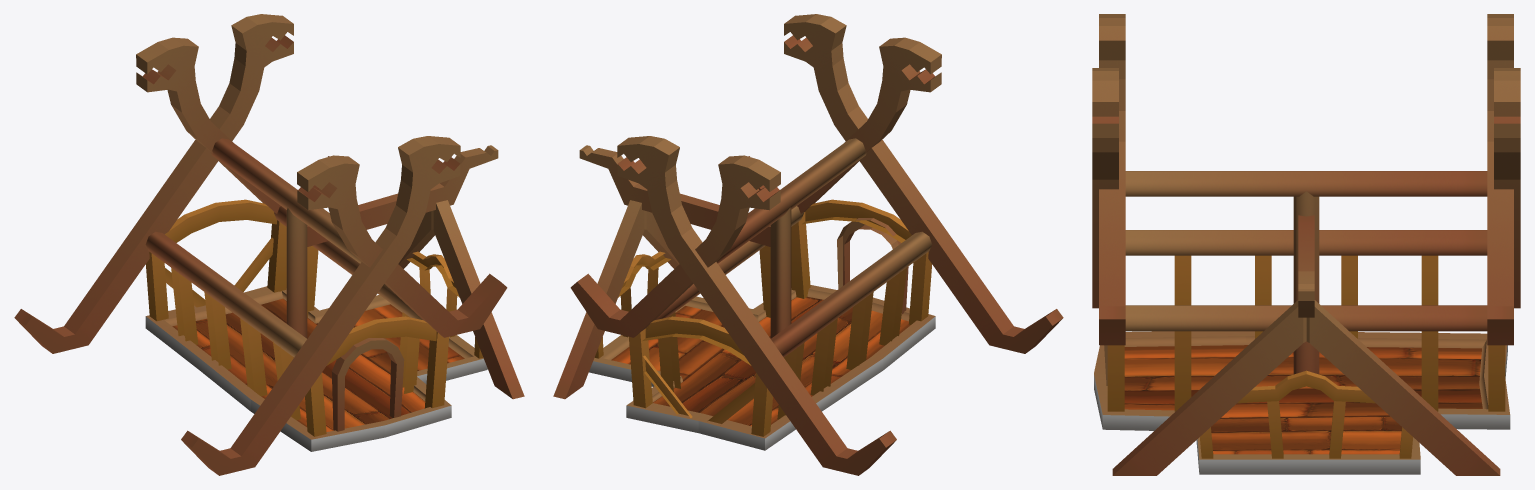
The model's file is VikingHouse_03_XL.fbx.
The picture shows the model from 3 angles, left to right: view 1: azimuth 30°, elevation 25°; view 2: azimuth 150°, elevation 25°; view 3: azimuth 270°, elevation 25°; orthographic projection. The views are drawn at different scales.
Parts seen in each view (by area): view 1: VikingHouse_03_XL; view 2: VikingHouse_03_XL; view 3: VikingHouse_03_XL.
Boxes of the visible parts, box(x1,y1,x2,y2) form: VikingHouse_03_XL: box(14, 14, 524, 475); VikingHouse_03_XL: box(553, 14, 1063, 475); VikingHouse_03_XL: box(1092, 14, 1520, 475).
Bounding box in the file's own units: 407 × 281 × 320.
